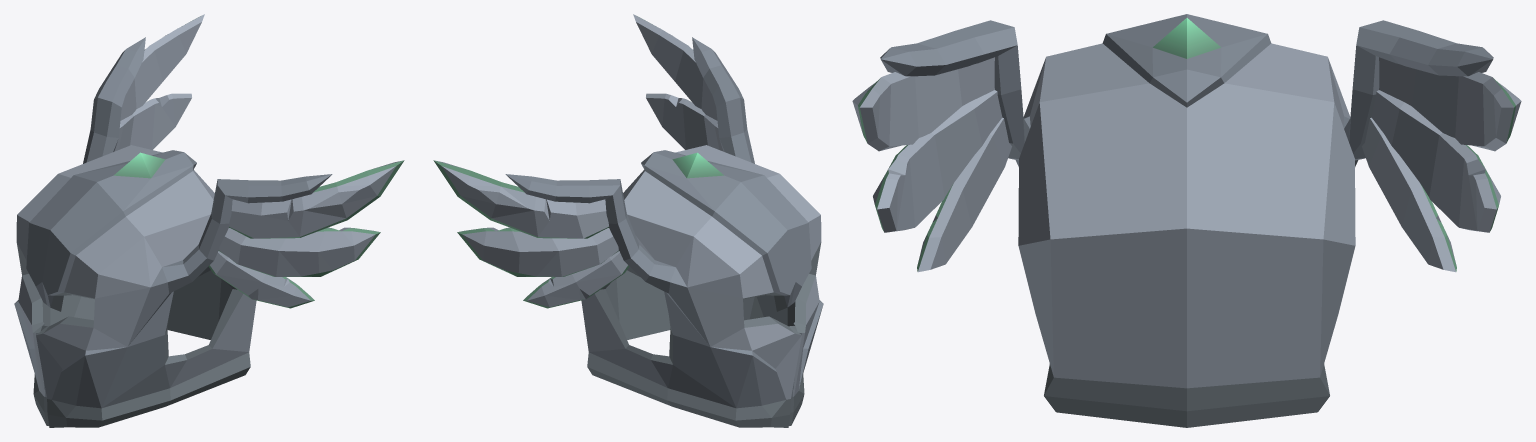
File: Chr_Attach_Helmet_06.fbx
3 renders of one model, left to right at view 1: azimuth 30°, elevation 25°; view 2: azimuth 150°, elevation 25°; view 3: azimuth 270°, elevation 25°, orthographic. The views are drawn at different scales.
Parts seen in each view (by area): view 1: Chr_Attach_Helmet_06; view 2: Chr_Attach_Helmet_06; view 3: Chr_Attach_Helmet_06.
Boxes of the visible parts, bbox=[...] form: Chr_Attach_Helmet_06: bbox=[14, 14, 404, 427]; Chr_Attach_Helmet_06: bbox=[433, 14, 823, 427]; Chr_Attach_Helmet_06: bbox=[852, 14, 1521, 427].
Size of the model in its own units: 40.68 by 53.24 by 39.91.
Materials: 1 (1 with a texture image).
